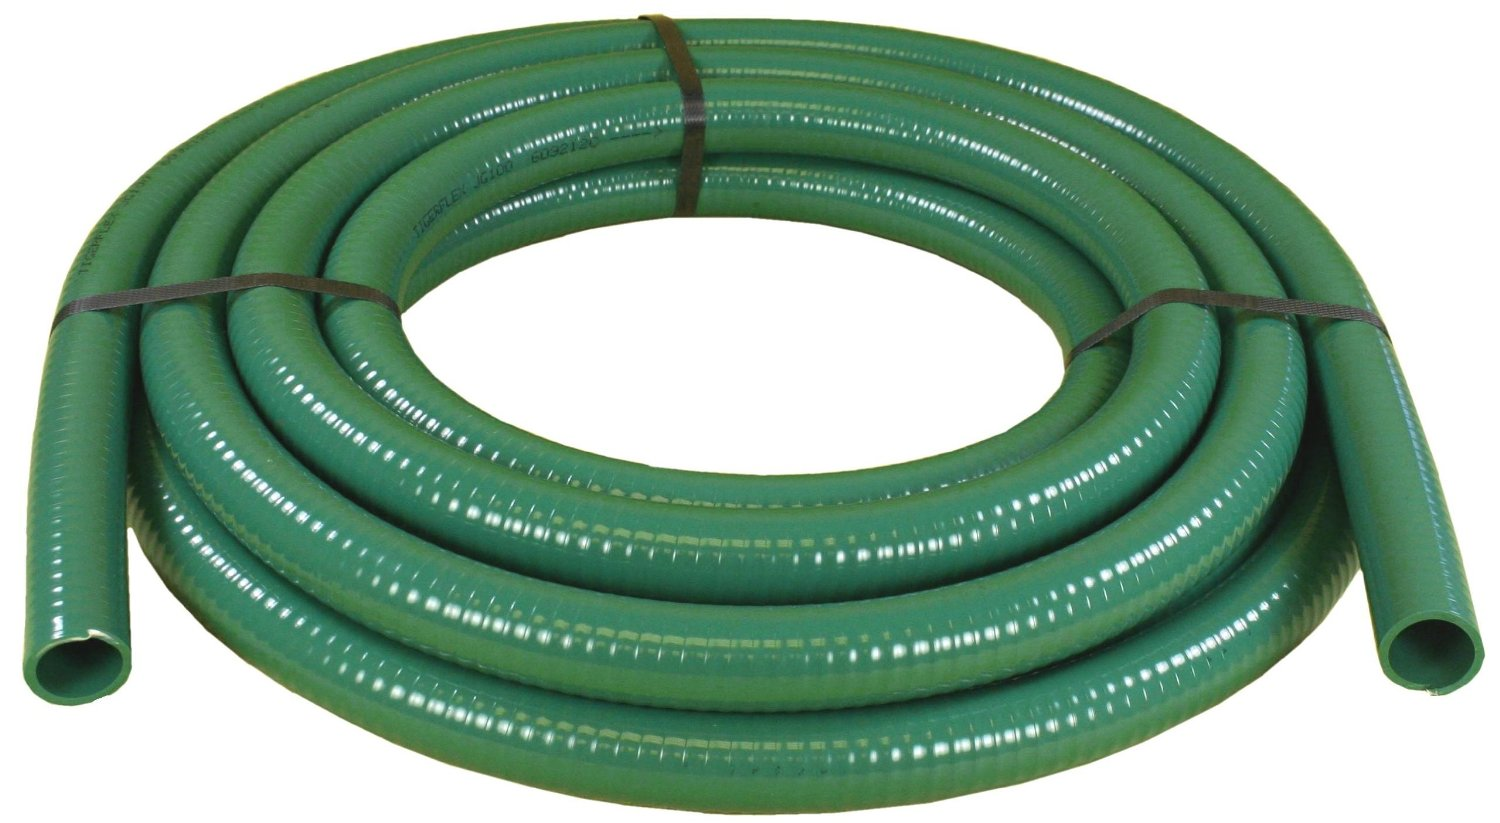Nonrec_Tangler: (18, 24, 1495, 800)
